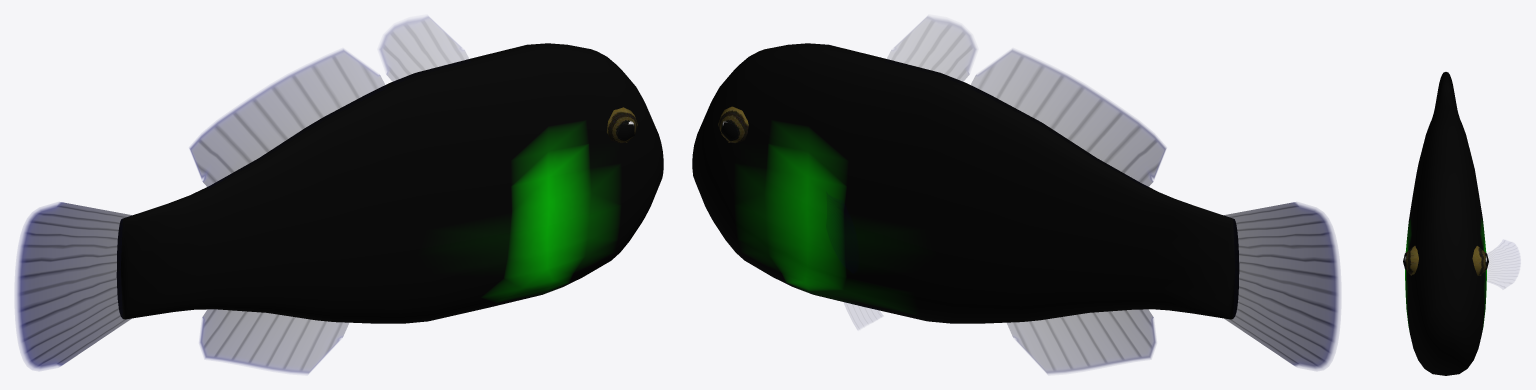
Rendered from clown_goby_lod1.glb.
The picture shows the model from 3 angles, left to right: view 1: azimuth 30°, elevation 25°; view 2: azimuth 150°, elevation 25°; view 3: azimuth 270°, elevation 25°; orthographic projection. The views are drawn at different scales.
Visible parts, largest first — view 1: Body, FinCaudal, FinDorsal2, FinAnal, FinDorsal, EyeR; view 2: Body, FinCaudal, FinDorsal2, FinAnal, FinDorsal, EyeL; view 3: Body, EyeL, EyeR.
Boxes of the visible parts, x1,y1,x2,y2 form: Body: [116, 43, 663, 323]; FinCaudal: [15, 202, 133, 369]; FinDorsal2: [189, 49, 386, 187]; FinAnal: [200, 309, 348, 373]; FinDorsal: [379, 16, 470, 83]; EyeR: [607, 107, 637, 143]; Body: [692, 43, 1239, 323]; FinCaudal: [1222, 202, 1340, 369]; FinDorsal2: [969, 49, 1166, 187]; FinAnal: [1007, 309, 1155, 373]; FinDorsal: [885, 16, 976, 83]; EyeL: [718, 106, 748, 143]; Body: [1405, 72, 1486, 375]; EyeL: [1472, 246, 1488, 275]; EyeR: [1403, 246, 1418, 275].
Bounding box in the file's own units: 1 × 0.4951 × 0.2591.
Materials: 4 (3 with a texture image).
